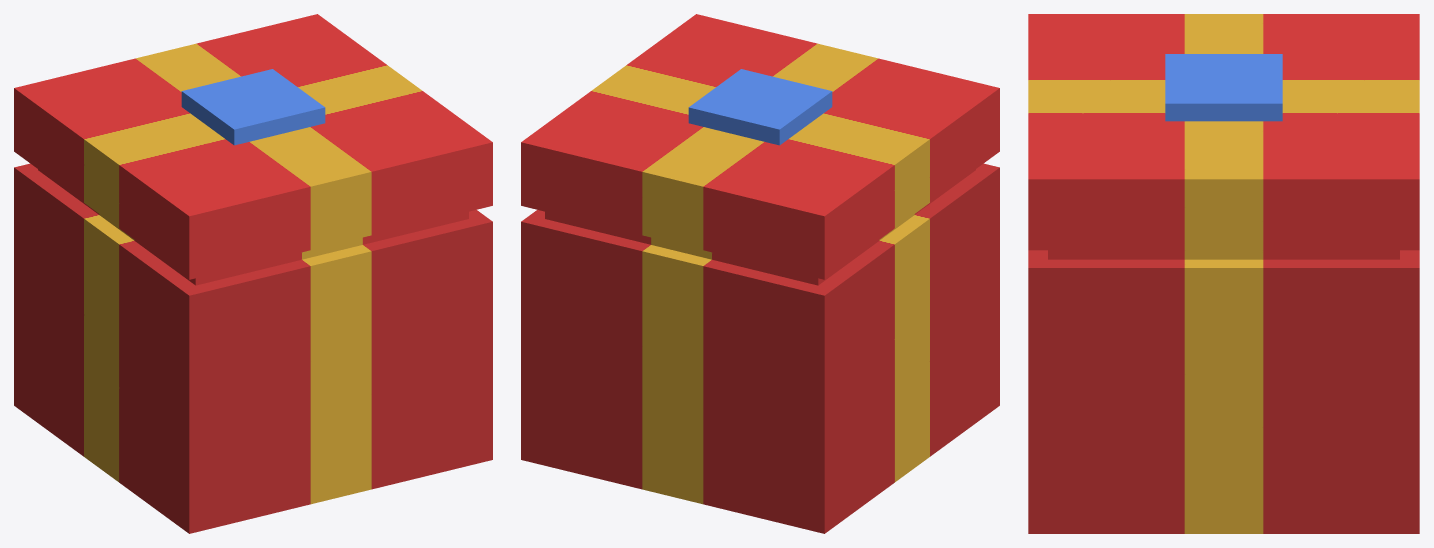
The model's file is BoxChar4.fbx.
The picture shows the model from 3 angles, left to right: view 1: azimuth 30°, elevation 25°; view 2: azimuth 150°, elevation 25°; view 3: azimuth 270°, elevation 25°; orthographic projection. The views are drawn at different scales.
Visible parts, largest first — view 1: Box; view 2: Box; view 3: Box.
Part boxes in pixels (box(x1,y1,x2,y2)): Box: box(14, 14, 492, 533); Box: box(521, 14, 999, 533); Box: box(1028, 14, 1419, 533).
Bounding box in the file's own units: 20 × 21 × 20.
